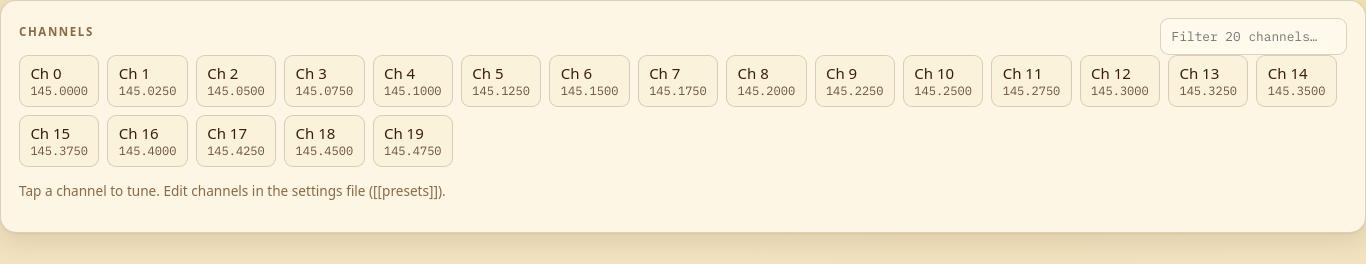
Test: PresetControl › offers a filter once the list is too long to scan by eye
Type "Ch 7" into the search field named "filter channels" at (1254, 37), box x1=1160 y1=18 x2=1347 y2=55
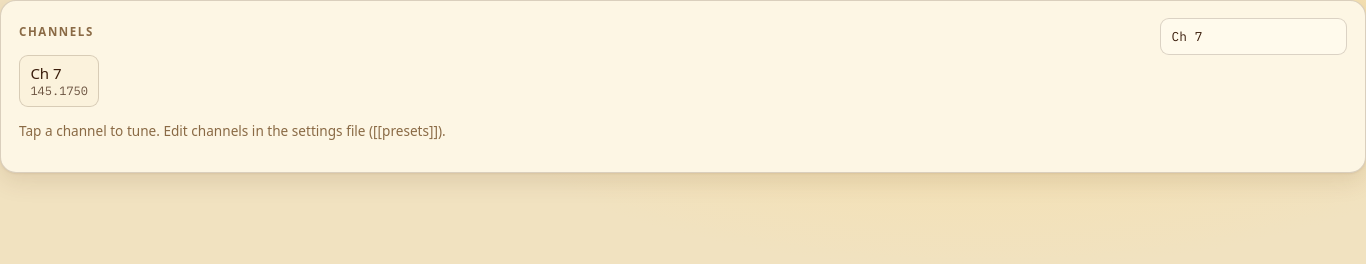
Expected: the button "Ch 7 145.1750" is shown, x1=19 y1=55 x2=99 y2=107
Now the button "Ch 3" is gone
